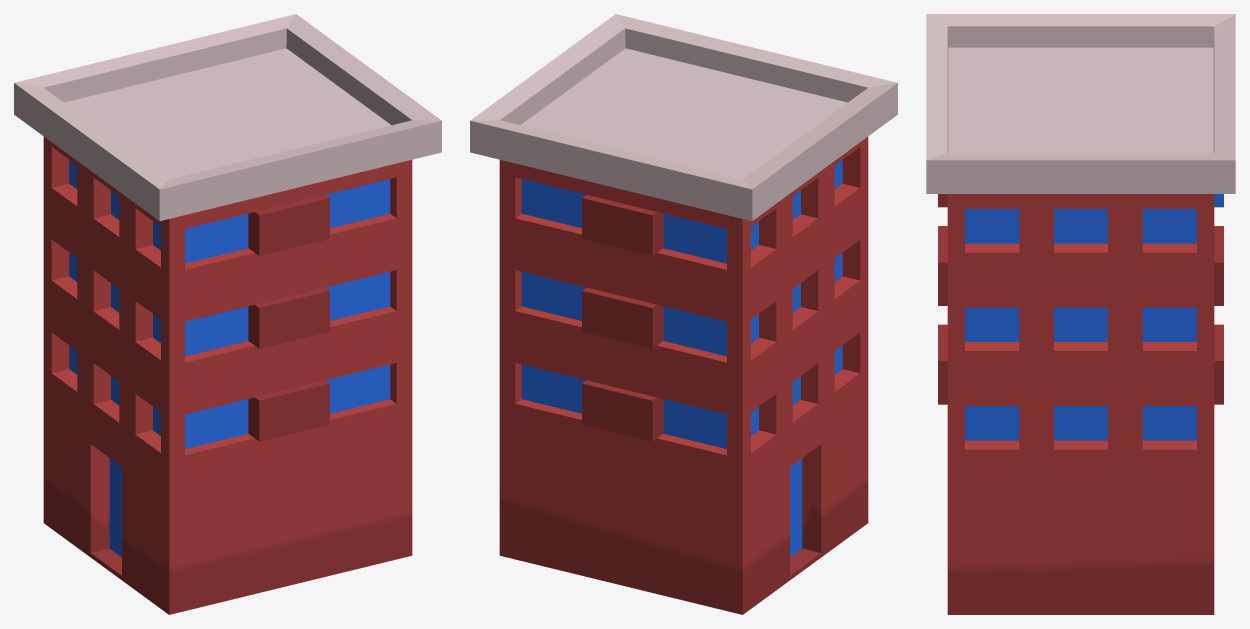
Rendered from house14.fbx.
3 views of the same model, side by side, from view 1: azimuth 30°, elevation 25°; view 2: azimuth 150°, elevation 25°; view 3: azimuth 270°, elevation 25° (orthographic). The views are drawn at different scales.
Parts seen in each view (by area): view 1: building.001; view 2: building.001; view 3: building.001.
Boxes of the visible parts, left/top/right/bottom form: building.001: left=14, top=14, right=441, bottom=614; building.001: left=470, top=14, right=897, bottom=614; building.001: left=926, top=14, right=1235, bottom=614.
Size of the model in its own units: 1069 by 1584 by 956.
